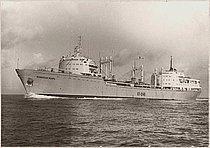Ship: (13, 34, 205, 105)
